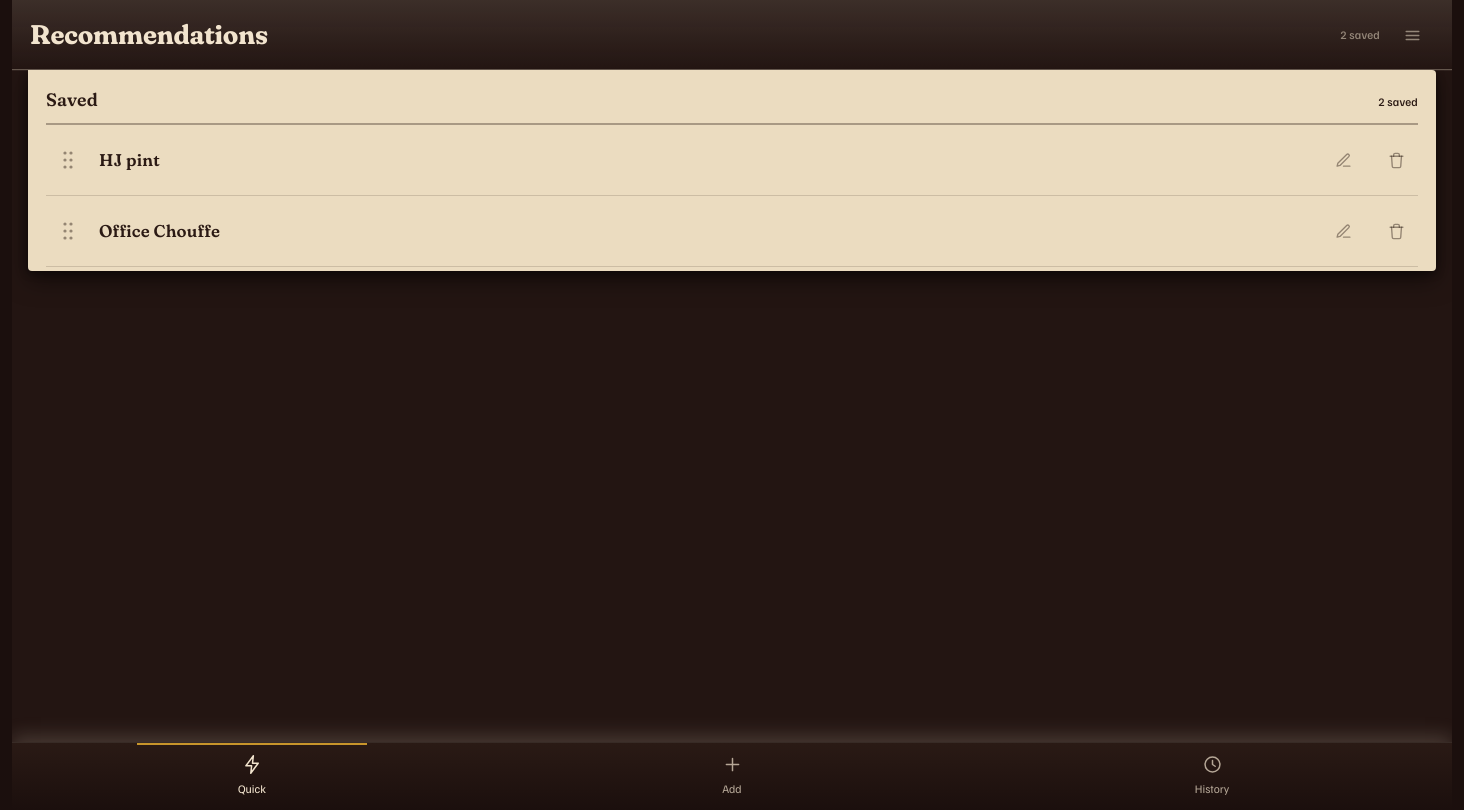
Test: RecommendationsPage › a delete crosses the row off at once and sends nothing yet
Expected: the text "HJ pint" is shown, [99,149,160,170]
Click the button named "Delete HJ pint" at (1396, 160), box [1374,138,1418,182]
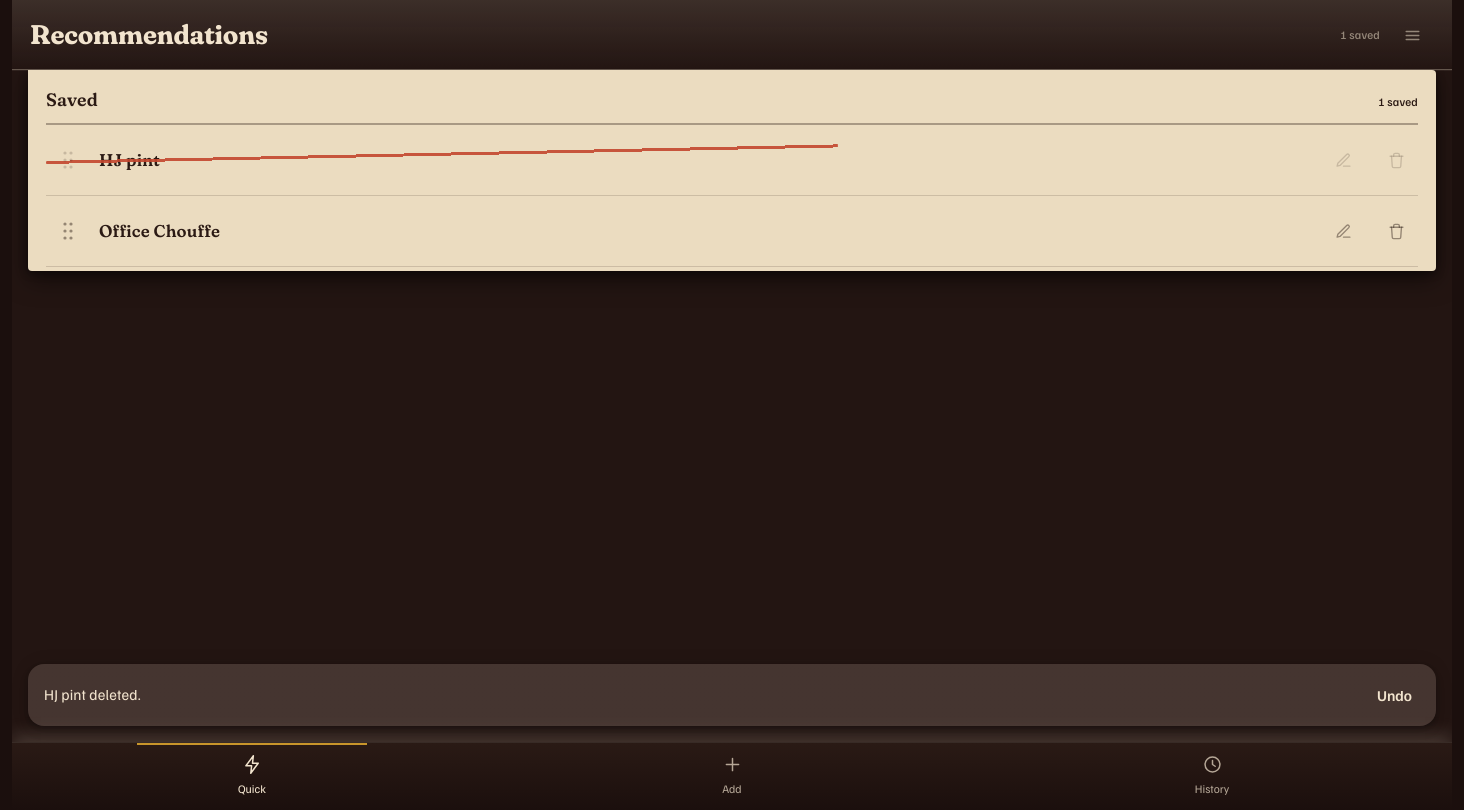
Result: the text "HJ pint deleted." is shown at [44,685,141,703]
